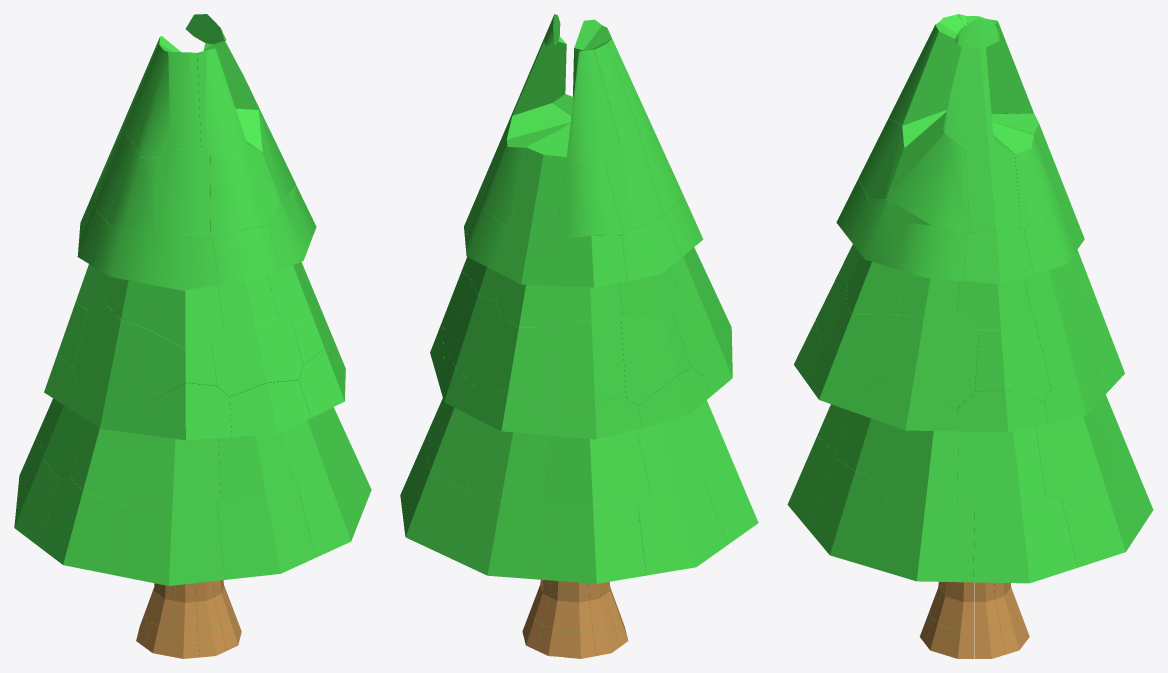
File: kırılankısaçam.fbx
3 views of the same model, side by side, from view 1: azimuth 30°, elevation 25°; view 2: azimuth 150°, elevation 25°; view 3: azimuth 270°, elevation 25° (orthographic).
Visible parts, largest first — view 1: Cylinder_cell.018, Cylinder_cell.059, Cylinder_cell.020, Cylinder_cell.099, Cylinder_cell.087, Cylinder_cell.064, Cylinder_cell.072, Cylinder_cell.080, Cylinder_cell.062, Cylinder_cell.043, Cylinder_cell.104, Cylinder_cell.091 (+40 smaller); view 2: Cylinder_cell.108, Cylinder_cell.067, Cylinder_cell.084, Cylinder_cell.034, Cylinder_cell.068, Cylinder_cell.092, Cylinder_cell.078, Cylinder_cell.016, Cylinder_cell.013, Cylinder_cell.009, Cylinder_cell.033, Cylinder_cell.055 (+38 smaller); view 3: Cylinder_cell.086, Cylinder_cell.069, Cylinder_cell.022, Cylinder_cell.065, Cylinder_cell.002, Cylinder_cell.101, Cylinder_cell.043, Cylinder_cell.106, Cylinder_cell.074, Cylinder_cell.083, Cylinder_cell.088, Cylinder_cell.051 (+40 smaller).
Part boxes in pixels (<box>): Cylinder_cell.018: <box>116,495,224,585</box>; Cylinder_cell.059: <box>217,480,315,579</box>; Cylinder_cell.020: <box>39,477,126,575</box>; Cylinder_cell.099: <box>70,422,164,507</box>; Cylinder_cell.087: <box>211,316,302,396</box>; Cylinder_cell.064: <box>210,141,281,238</box>; Cylinder_cell.072: <box>156,147,210,237</box>; Cylinder_cell.080: <box>73,303,144,389</box>; Cylinder_cell.062: <box>143,383,231,440</box>; Cylinder_cell.043: <box>294,455,361,557</box>; Cylinder_cell.104: <box>218,433,293,498</box>; Cylinder_cell.091: <box>145,285,223,348</box>; Cylinder_cell.108: <box>545,429,650,510</box>; Cylinder_cell.067: <box>542,508,646,583</box>; Cylinder_cell.084: <box>446,489,545,579</box>; Cylinder_cell.034: <box>550,318,625,407</box>; Cylinder_cell.068: <box>638,480,727,575</box>; Cylinder_cell.092: <box>466,423,550,508</box>; Cylinder_cell.078: <box>480,316,550,406</box>; Cylinder_cell.016: <box>510,125,570,237</box>; Cylinder_cell.013: <box>621,312,691,405</box>; Cylinder_cell.009: <box>636,412,710,494</box>; Cylinder_cell.033: <box>567,49,619,165</box>; Cylinder_cell.055: <box>555,158,623,239</box>; Cylinder_cell.086: <box>973,495,1077,583</box>; Cylinder_cell.069: <box>873,499,974,582</box>; Cylinder_cell.022: <box>887,112,969,233</box>; Cylinder_cell.065: <box>888,313,978,408</box>; Cylinder_cell.002: <box>957,426,1045,509</box>; Cylinder_cell.101: <box>866,421,958,502</box>; Cylinder_cell.043: <box>809,458,886,568</box>; Cylinder_cell.106: <box>1035,406,1116,500</box>; Cylinder_cell.074: <box>1062,466,1139,567</box>; Cylinder_cell.083: <box>975,311,1051,401</box>; Cylinder_cell.088: <box>965,135,1020,232</box>; Cylinder_cell.051: <box>889,22,961,125</box>.
Bounding box in the file's own units: 453 × 865 × 457.
